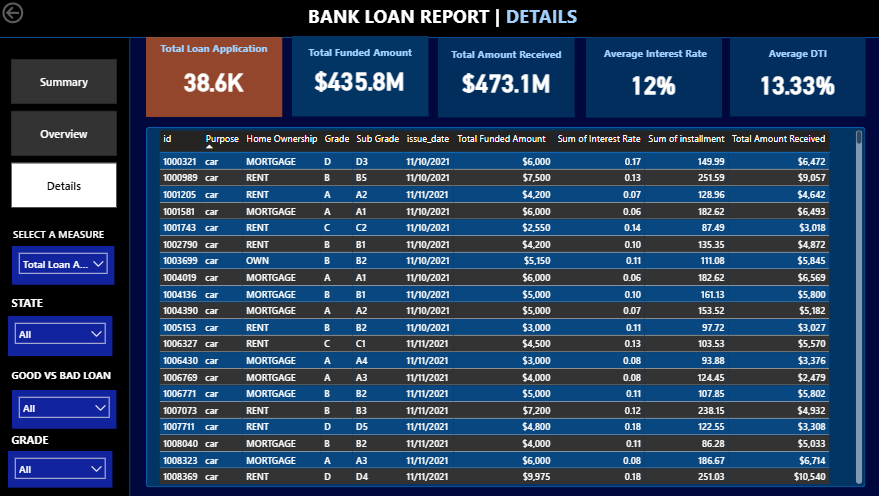

Layout of this report page (visuals, bound fields, positions):
{"tool":"powerbi","page":{"name":"Details","canvas":[1280,720],"ordinal":2},"visuals":[{"type":"shape","box":[849.4,54.5,196.7,116.7],"z":0,"group":"g4"},{"type":"shape","box":[1056.9,54.9,196.1,114.9],"z":0,"group":"g5"},{"type":"shape","box":[634.7,56.4,197.6,114.9],"z":0,"group":"g3"},{"type":"shape","box":[0,53,189.7,666.5],"z":1000},{"type":"shape","box":[423.6,53.5,197.3,116.3],"z":2000,"group":"g2"},{"type":"card","fields":{"Values":["financial_loan.Average DTI"]},"box":[1083.5,99.2,141.3,44.3],"z":2000,"group":"g5"},{"type":"card","fields":{"Values":["financial_loan.Average Interest Rate"]},"box":[876.1,99.5,141.7,45],"z":2000,"group":"g4"},{"type":"shape","box":[0,0,1280,56],"z":3000},{"type":"textbox","box":[283.9,0,687,79],"z":4000},{"type":"textbox","box":[849.4,61.2,196.7,33.3],"z":4000,"group":"g4"},{"type":"textbox","box":[1056.9,61.5,196.1,32.8],"z":4000,"group":"g5"},{"type":"card","fields":{"Values":["financial_loan.Total Amount Received"]},"box":[661.5,97.4,142.3,44.3],"z":4000,"group":"g3"},{"type":"group","id":"g1","title":"Group 1","box":[212.5,54.9,198.1,115.7],"z":5000},{"type":"group","id":"g2","title":"Group 2","box":[423.6,53.5,198.1,117.1],"z":6000},{"type":"group","id":"g3","title":"Group 3","box":[634.7,56.4,196.6,115.7],"z":7000},{"type":"textbox","box":[634.7,63,197.6,32.8],"z":7000,"group":"g3"},{"type":"group","id":"g4","title":"Group 4","box":[849.4,54.5,195.7,117.4],"z":8000},{"type":"group","id":"g5","title":"Group 4","box":[1056.9,54.9,195.2,115.7],"z":9000},{"type":"card","fields":{"Values":["financial_loan.Total Funded Amount"]},"box":[448.7,86.7,145.5,58.2],"z":9000,"group":"g2"},{"type":"slicer","fields":{"Values":["financial_loan.Good vs Bad Loan"]},"box":[18.7,565.1,151.5,56.2],"z":10000},{"type":"textbox","box":[424.2,60.7,197.3,46.5],"z":11000,"group":"g2"},{"type":"textbox","box":[13.6,527.7,192.3,37.4],"z":11000},{"type":"shape","box":[212.5,54.9,197.3,115.6],"z":12000,"group":"g1"},{"type":"slicer","fields":{"Values":["financial_loan.grade"]},"box":[13.6,653.6,151.5,52.8],"z":12000},{"type":"card","fields":{"Values":["financial_loan.Total Loan Applications"]},"box":[225.9,91,168.9,54.2],"z":13000,"group":"g1"},{"type":"textbox","box":[13.6,621.3,115.7,32.3],"z":13000},{"type":"textbox","box":[213.2,55.2,196.6,34.7],"z":14000,"group":"g1"},{"type":"slicer","fields":{"Values":["financial_loan.address_state"]},"box":[13.6,457.9,151.5,57.9],"z":14000},{"type":"textbox","box":[13.6,423.8,98.7,34],"z":15000},{"type":"slicer","fields":{"Values":["Select A Measure.Select A Measure"]},"box":[18.7,357.4,148.1,56.2],"z":16000},{"type":"textbox","box":[6.8,323.4,175.3,37.4],"z":17000},{"type":"shape","box":[212.8,185.5,1040,520.9],"z":20000},{"type":"tableEx","fields":{"Values":["financial_loan.id","financial_loan.purpose","financial_loan.home_ownership","financial_loan.grade","financial_loan.sub_grade","financial_loan.issue_date","financial_loan.Total Funded Amount","Sum(financial_loan.int_rate)","Sum(financial_loan.installment)","financial_loan.Total Amount Received"]},"box":[226.4,185.5,1026.4,520.9],"z":20001},{"type":"actionButton","box":[0,0,100,40],"z":20002},{"type":"pageNavigator","box":[17,86.8,153.2,216.2],"z":20003}]}

Visuals, with their boxes in screenshot pixels (x1, y1, x2, y2), scaled from the page's 1280x720 canvas onto the 879x496 screenshot:
shape: bbox(583, 38, 718, 118)
shape: bbox(726, 38, 860, 117)
shape: bbox(436, 39, 572, 118)
shape: bbox(0, 37, 130, 495)
shape: bbox(291, 37, 426, 117)
card - financial_loan.Average DTI: bbox(744, 68, 841, 99)
card - financial_loan.Average Interest Rate: bbox(602, 69, 699, 100)
shape: bbox(0, 0, 878, 39)
textbox: bbox(195, 0, 667, 54)
textbox: bbox(583, 42, 718, 65)
textbox: bbox(726, 42, 860, 65)
card - financial_loan.Total Amount Received: bbox(454, 67, 552, 98)
"Group 1" group: bbox(146, 38, 282, 118)
"Group 2" group: bbox(291, 37, 427, 118)
"Group 3" group: bbox(436, 39, 571, 119)
textbox: bbox(436, 43, 572, 66)
"Group 4" group: bbox(583, 38, 718, 118)
"Group 4" group: bbox(726, 38, 860, 118)
card - financial_loan.Total Funded Amount: bbox(308, 60, 408, 100)
slicer - financial_loan.Good vs Bad Loan: bbox(13, 389, 117, 428)
textbox: bbox(291, 42, 427, 74)
textbox: bbox(9, 364, 141, 389)
shape: bbox(146, 38, 281, 117)
slicer - financial_loan.grade: bbox(9, 450, 113, 487)
card - financial_loan.Total Loan Applications: bbox(155, 63, 271, 100)
textbox: bbox(9, 428, 89, 450)
textbox: bbox(146, 38, 281, 62)
slicer - financial_loan.address_state: bbox(9, 315, 113, 355)
textbox: bbox(9, 292, 77, 315)
slicer - Select A Measure.Select A Measure: bbox(13, 246, 115, 285)
textbox: bbox(5, 223, 125, 249)
shape: bbox(146, 128, 860, 487)
tableEx - financial_loan.id x financial_loan.purpose: bbox(155, 128, 860, 487)
actionButton: bbox(0, 0, 69, 28)
pageNavigator: bbox(12, 60, 117, 209)
